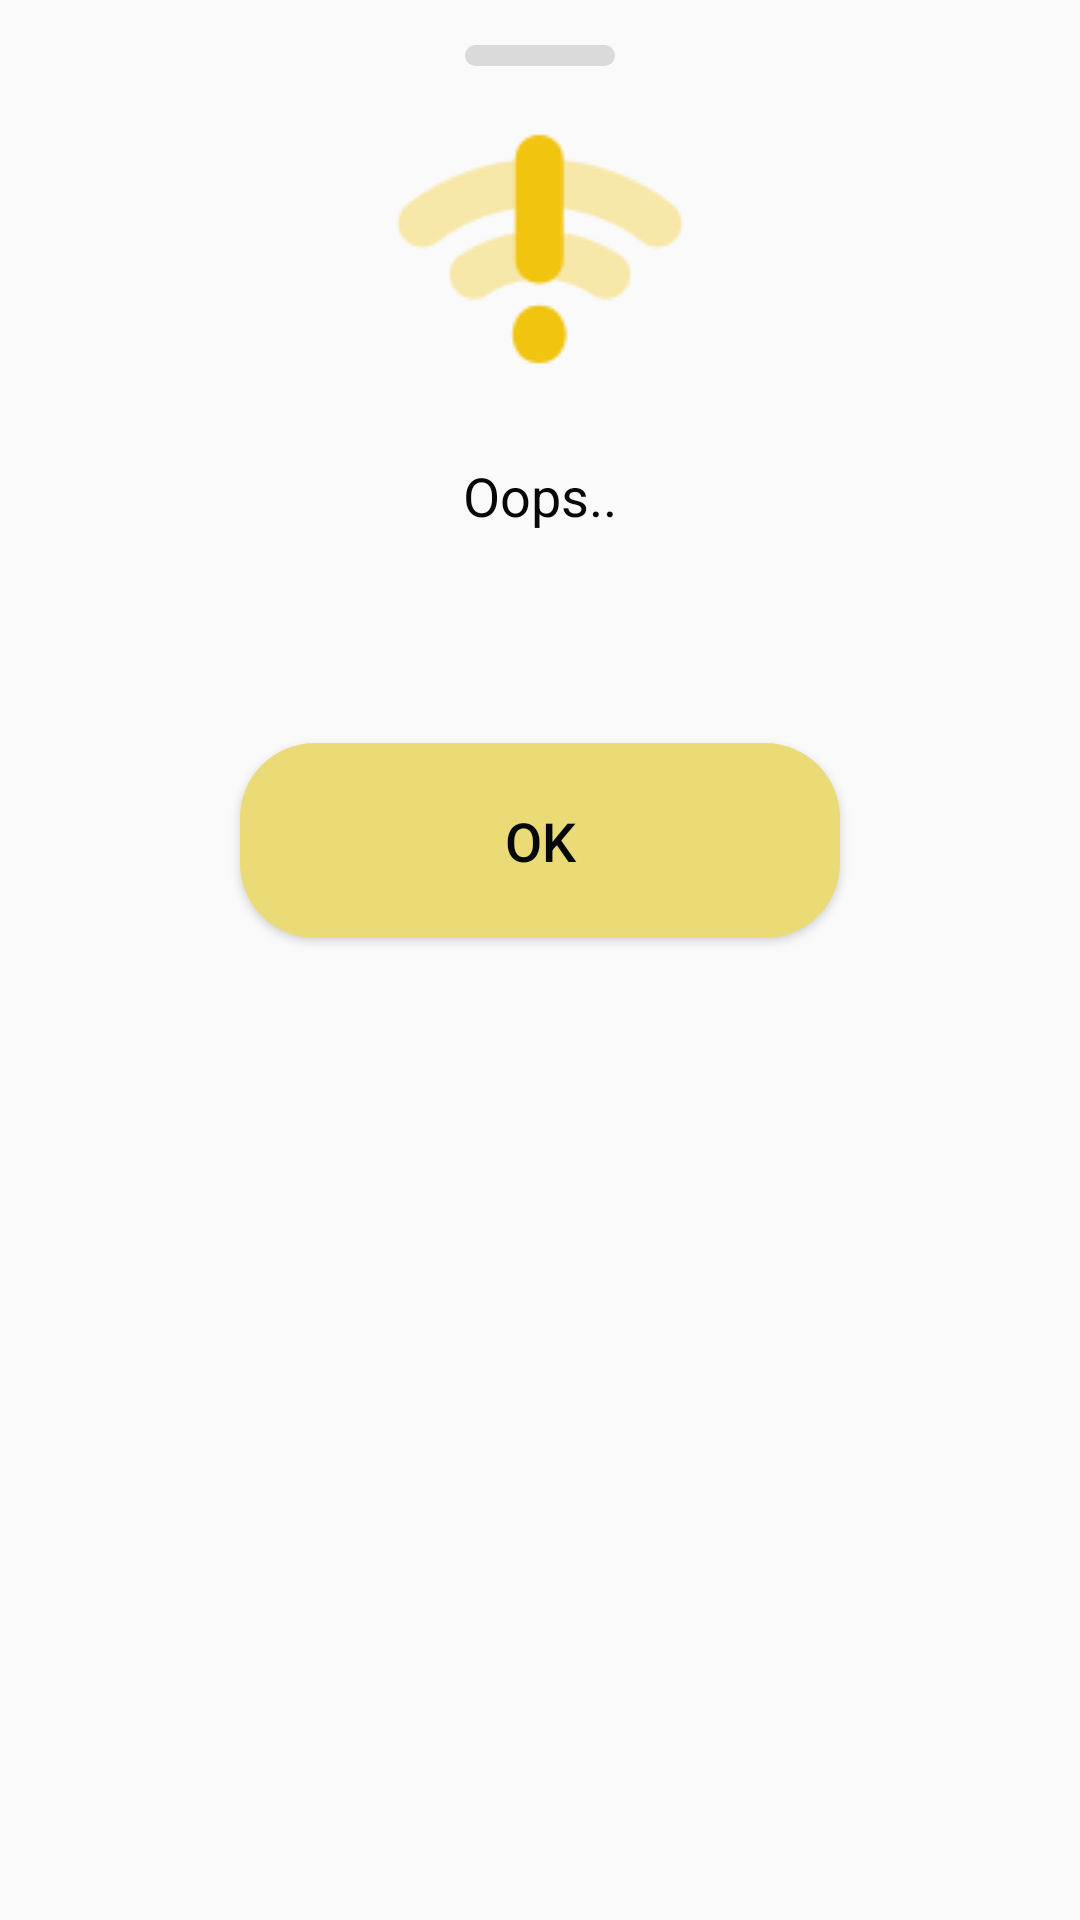

Named icons in this screenshot (1080 × 1920) and their centers, [x,y]:
Image no connection: [540,249]
